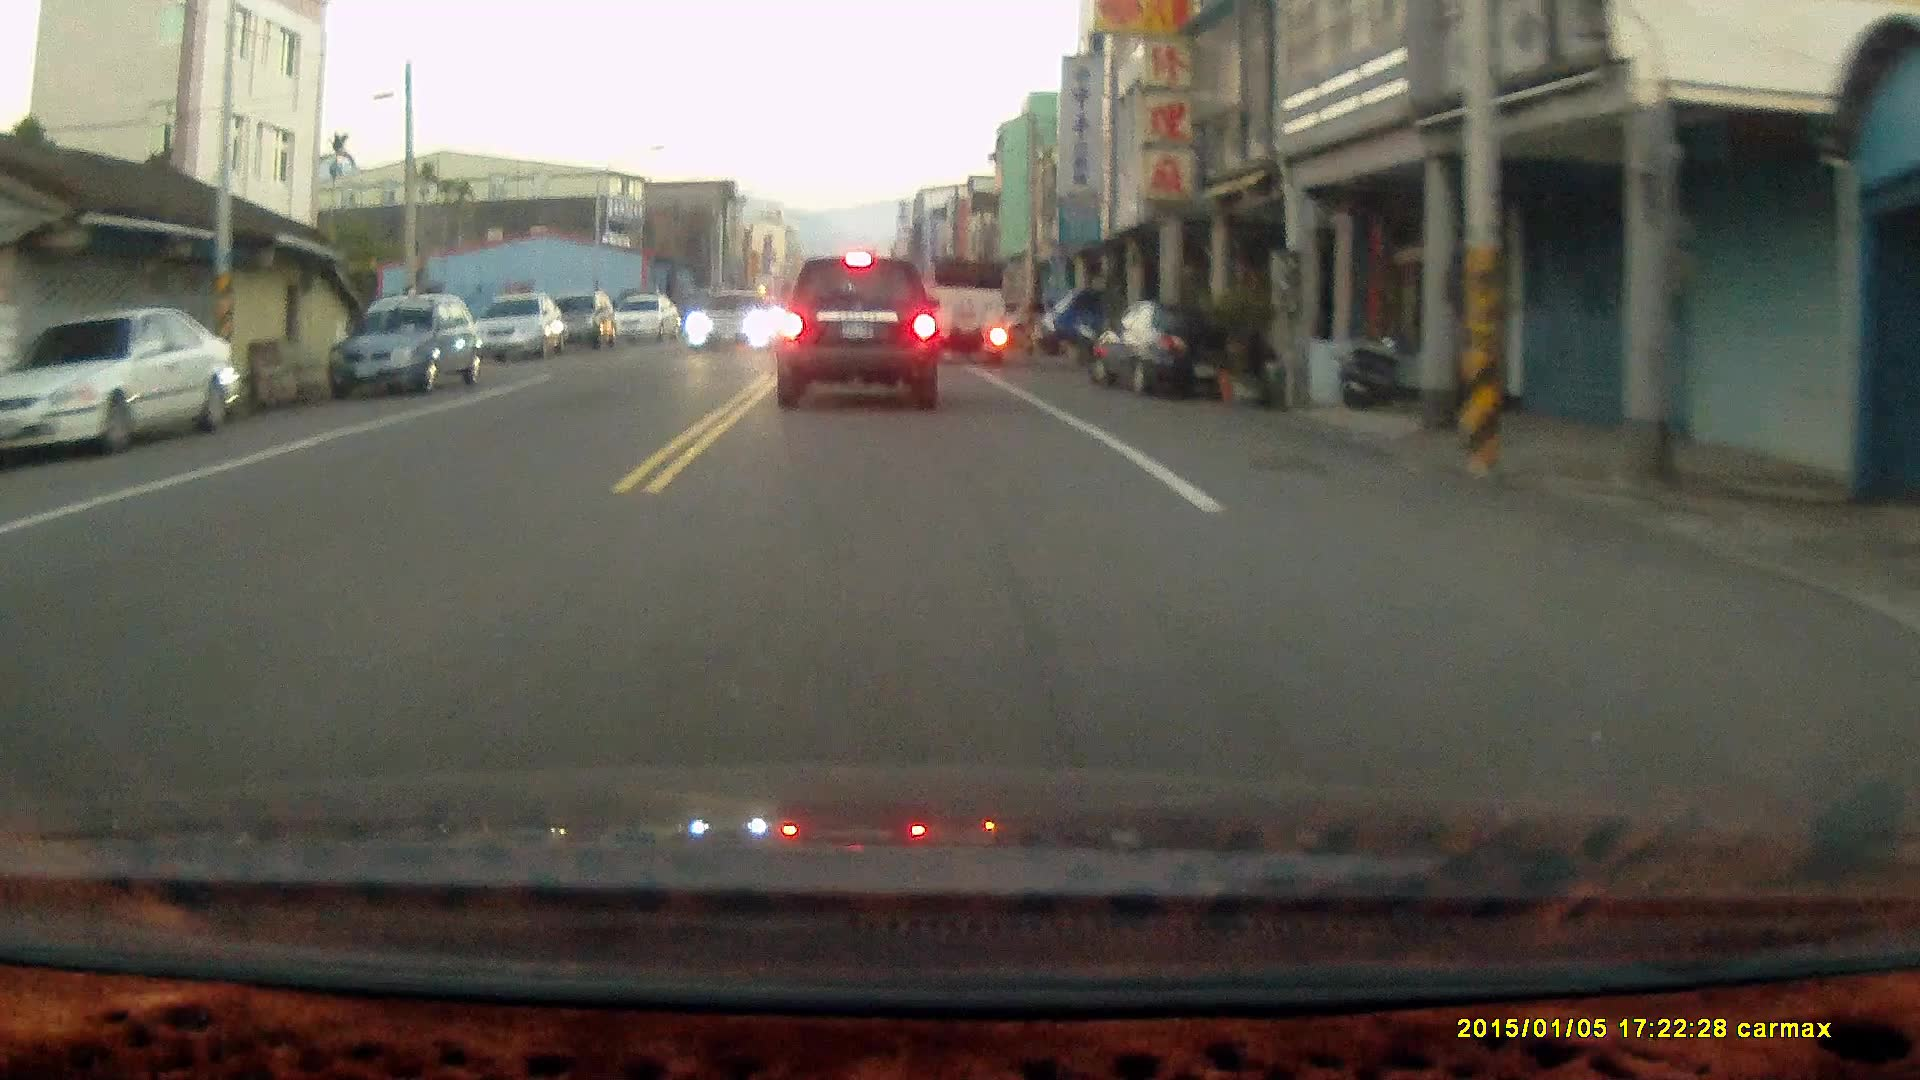vehicle: (1, 313, 247, 463), (775, 255, 940, 411), (1088, 299, 1257, 396), (330, 297, 484, 400), (1036, 280, 1172, 367), (918, 257, 1013, 372), (477, 294, 563, 364), (684, 293, 777, 356), (541, 293, 618, 353), (612, 295, 682, 345)
